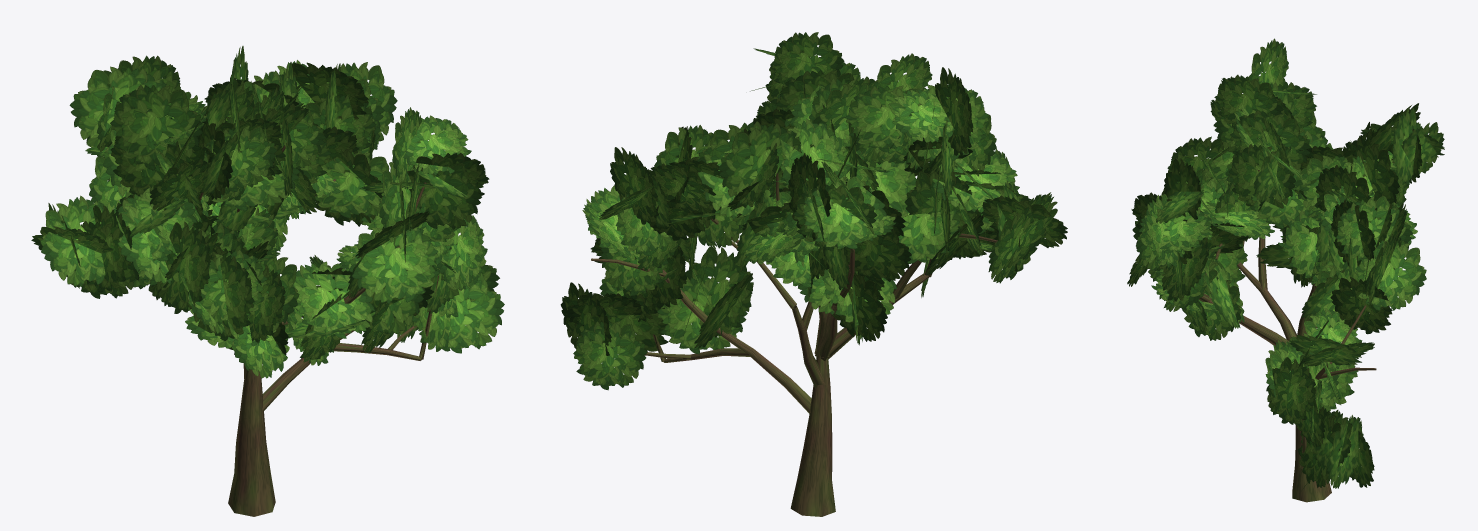
The model's file is tree_broad.glb.
3 views of the same model, side by side, from view 1: azimuth 30°, elevation 25°; view 2: azimuth 150°, elevation 25°; view 3: azimuth 270°, elevation 25° (orthographic). The views are drawn at different scales.
Parts seen in each view (by area): view 1: tree_broad; view 2: tree_broad; view 3: tree_broad.
Part boxes in pixels (box(x1,y1,x2,y2)): tree_broad: box(31, 46, 504, 516); tree_broad: box(560, 32, 1067, 516); tree_broad: box(1127, 38, 1444, 502).
Bounding box in the file's own units: 10.19 × 9 × 6.85.
2 materials, 2 textured.
